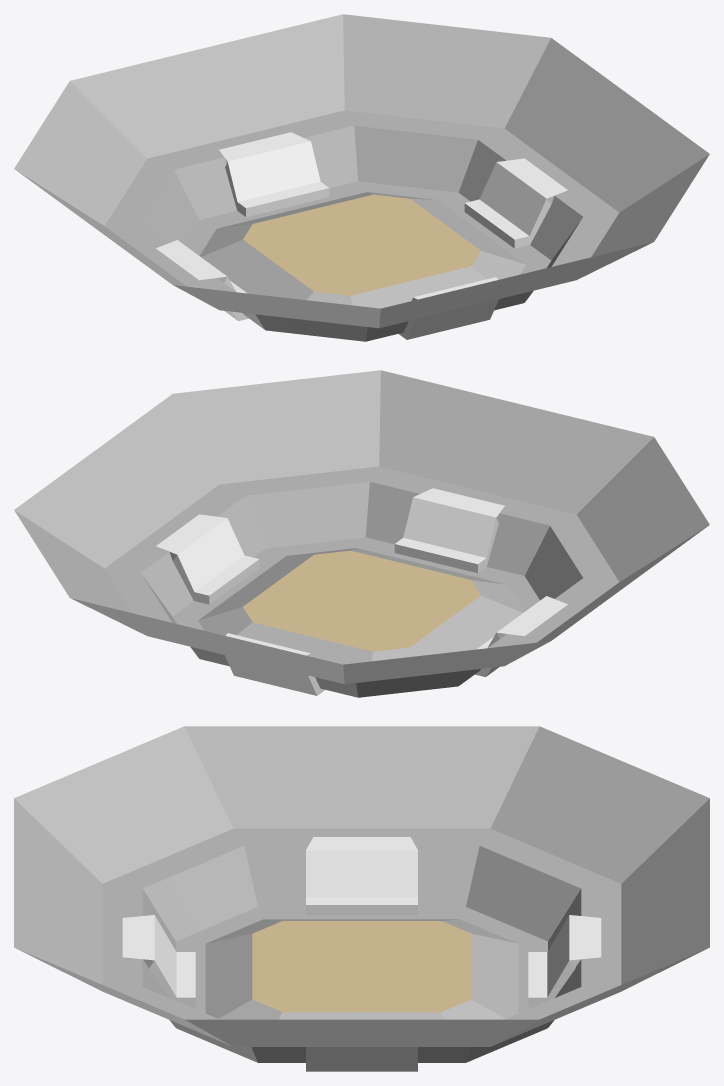
The model's file is deco_ceilingLight_small.FBX.
The picture shows the model from 3 angles, top to bottom: view 1: azimuth 30°, elevation 25°; view 2: azimuth 150°, elevation 25°; view 3: azimuth 270°, elevation 25°; orthographic projection. The views are drawn at different scales.
Parts seen in each view (by area): view 1: deco_ceilingLight_small; view 2: deco_ceilingLight_small; view 3: deco_ceilingLight_small.
Boxes of the visible parts, x1,y1,x2,y2 form: deco_ceilingLight_small: (14, 14, 709, 341); deco_ceilingLight_small: (14, 370, 709, 697); deco_ceilingLight_small: (14, 726, 709, 1071).
Size of the model in its own units: 0.6447 by 0.1206 by 0.6466.
